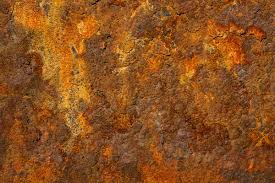rust: (1, 2, 274, 183)
